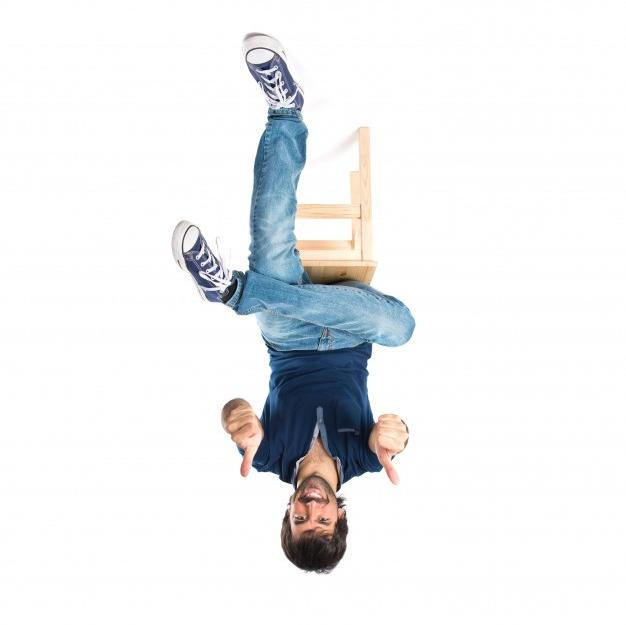thumbsdown: (226, 405, 259, 478), (376, 414, 409, 485)
